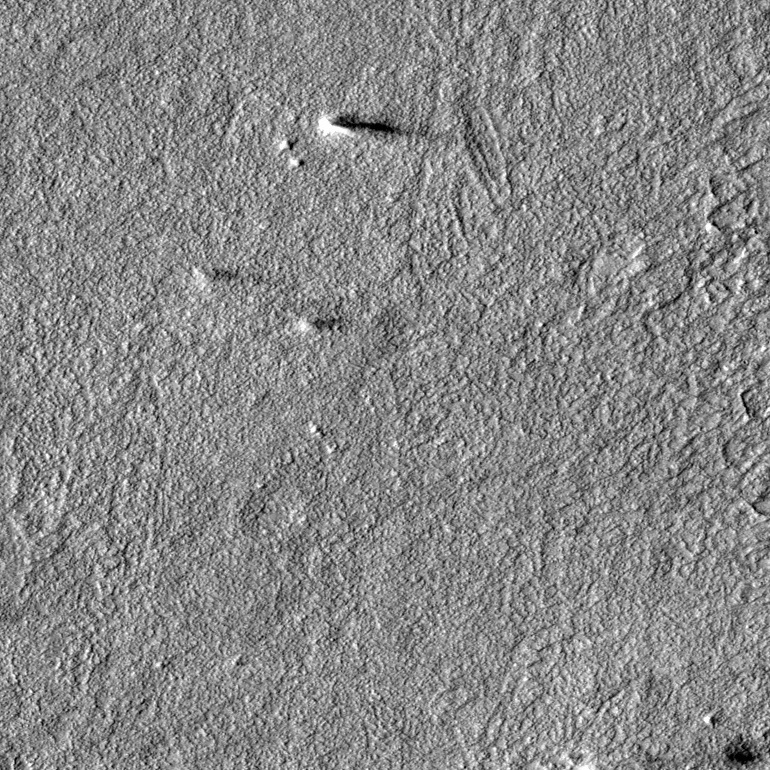dust_devil: (316, 113, 401, 139), (187, 264, 243, 290), (295, 313, 344, 335)
